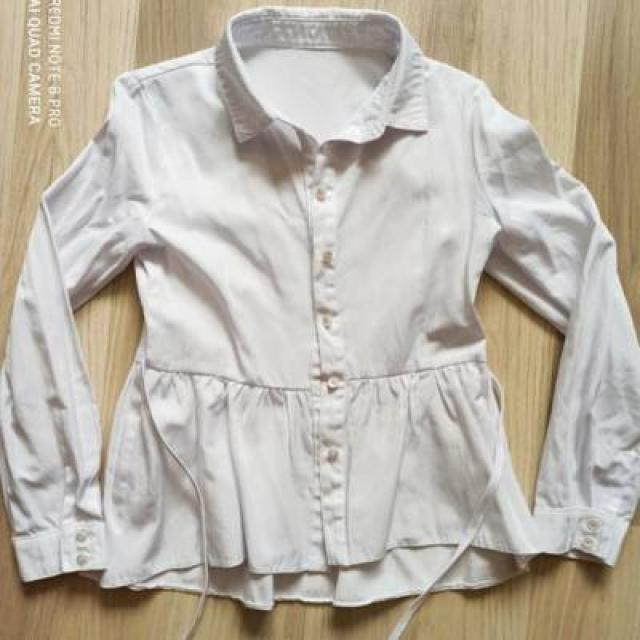Clothes -Biodegradable-: (0, 6, 640, 611)
